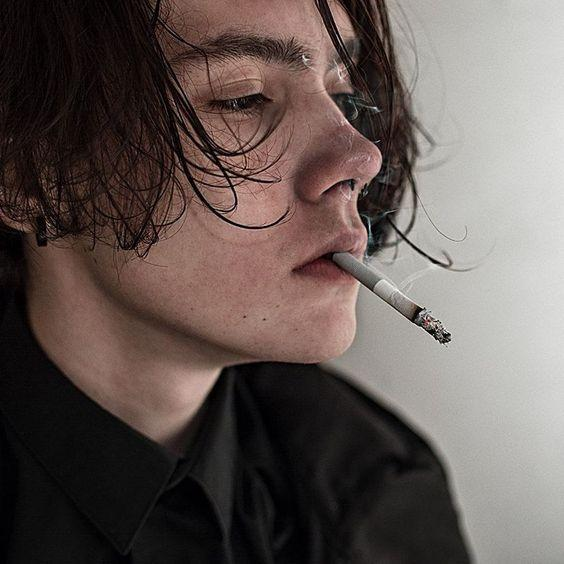cigarette: (331, 252, 455, 345)
